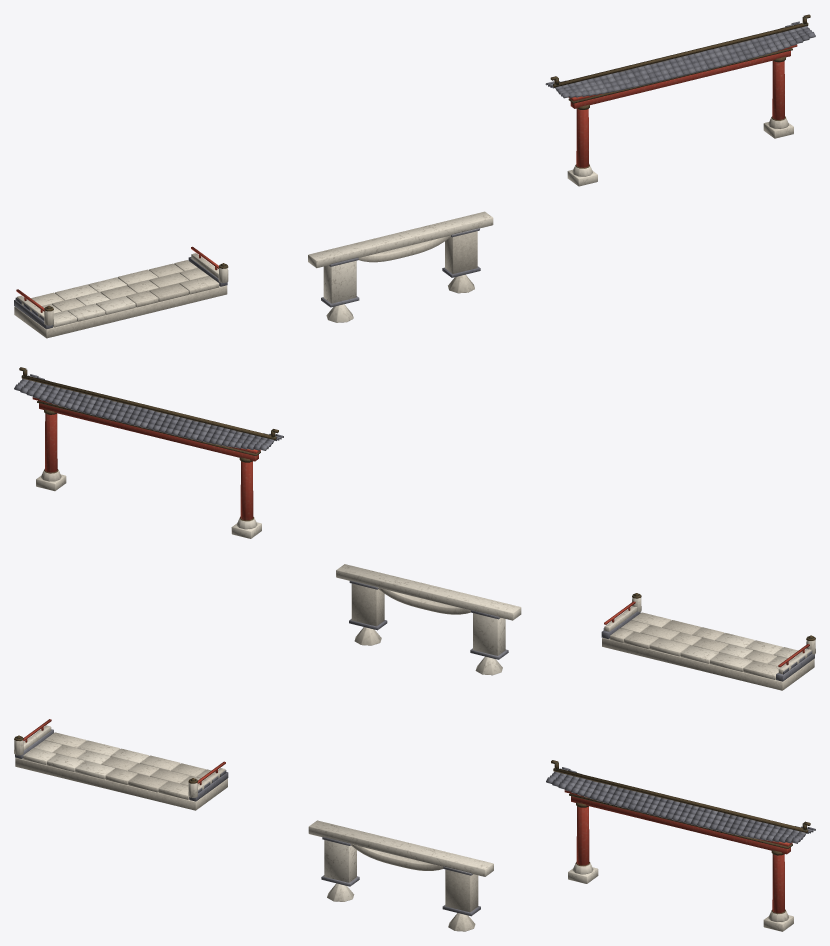
The model's file is LionBridge.fbx.
3 views of the same model, one above another, from view 1: azimuth 30°, elevation 25°; view 2: azimuth 150°, elevation 25°; view 3: azimuth 330°, elevation 25° (orthographic).
Parts seen in each view (by area): view 1: LionGate, LionDeck, LionSupport; view 2: LionGate, LionDeck, LionSupport; view 3: LionGate, LionDeck, LionSupport.
Part boxes in pixels (left/top/right/bottom): LionGate: left=545, top=14, right=815, bottom=186; LionDeck: left=14, top=246, right=228, bottom=338; LionSupport: left=308, top=211, right=493, bottom=322; LionGate: left=14, top=367, right=283, bottom=538; LionDeck: left=601, top=593, right=815, bottom=690; LionSupport: left=336, top=564, right=521, bottom=675; LionGate: left=546, top=760, right=815, bottom=931; LionDeck: left=14, top=719, right=228, bottom=810; LionSupport: left=308, top=820, right=493, bottom=931.
Size of the model in its own units: 167 by 38.4 by 12.7.
Materials: 1 (1 with a texture image).
